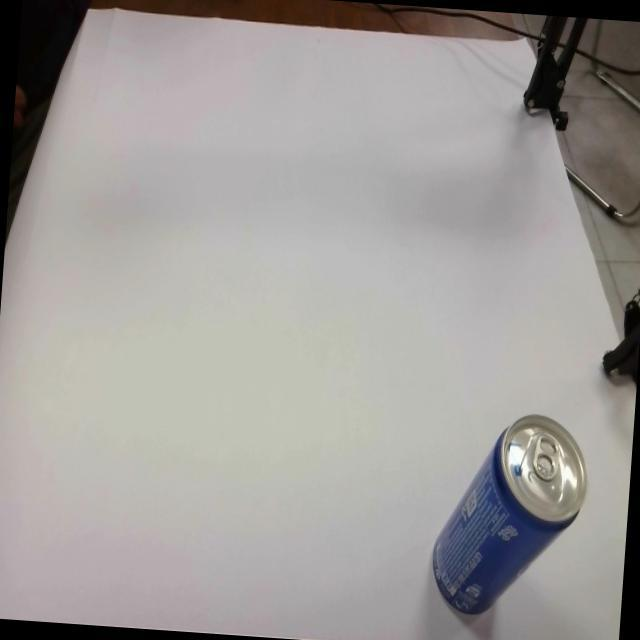debris: (427, 406, 593, 622)
